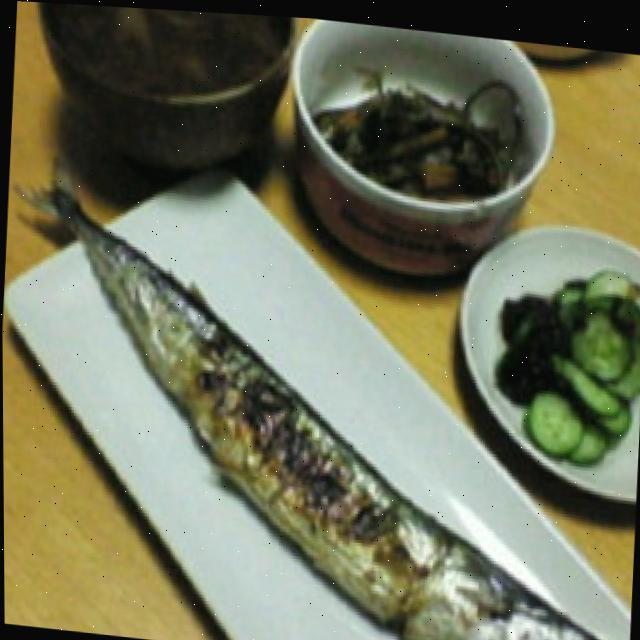熟制海鲜: (1, 167, 640, 640)
